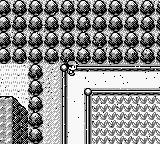captura: (92, 96, 159, 143)
main: (66, 61, 79, 75)
no-caminable: (0, 0, 159, 143), (0, 97, 27, 143)
